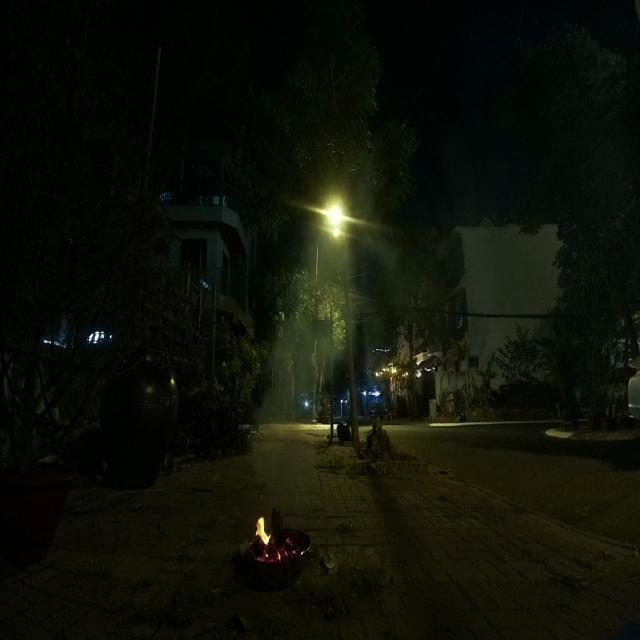Fire: (252, 512, 282, 565)
